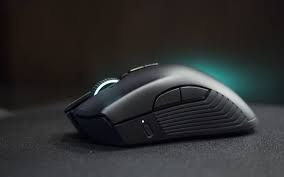mouse: (52, 47, 262, 157)
